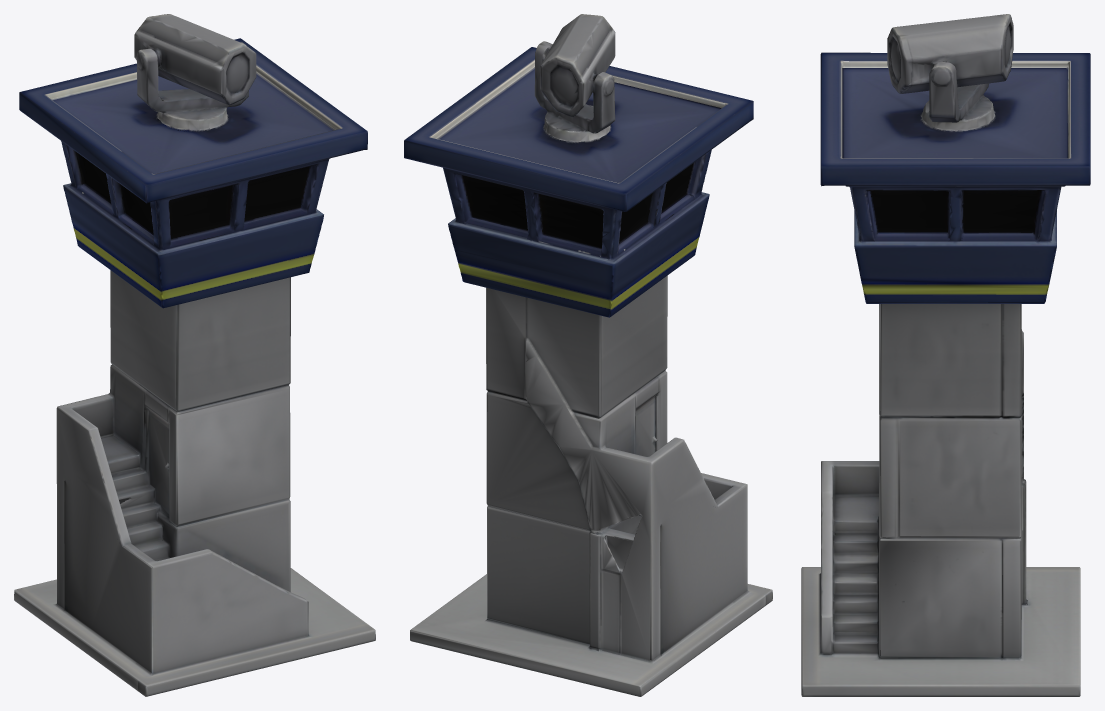
3 renders of one model, left to right at view 1: azimuth 30°, elevation 25°; view 2: azimuth 150°, elevation 25°; view 3: azimuth 270°, elevation 25°, orthographic. The views are drawn at different scales.
Visible parts, largest first — view 1: repaired; view 2: repaired; view 3: repaired.
Part boxes in pixels (box(x1,y1,x2,y2)): repaired: box(14, 14, 375, 696); repaired: box(404, 14, 772, 696); repaired: box(801, 14, 1090, 696).
Size of the model in its own units: 0.4155 by 1 by 0.4253.
Materials: 1 (1 with a texture image).
